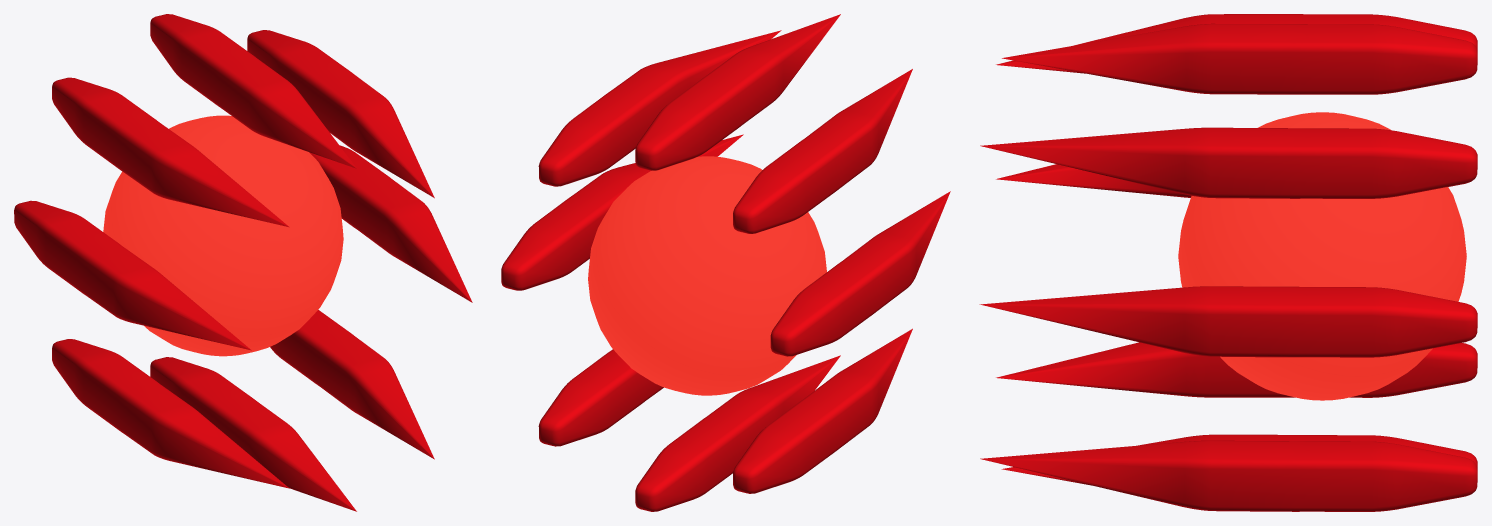
The model's file is fireballv1.glb.
3 renders of one model, left to right at view 1: azimuth 30°, elevation 25°; view 2: azimuth 150°, elevation 25°; view 3: azimuth 270°, elevation 25°, orthographic. The views are drawn at different scales.
Visible parts, largest first — view 1: Fireball; view 2: Fireball; view 3: Fireball.
Part boxes in pixels (x1=…): Fireball: x1=14, y1=14, x2=472, y2=511; Fireball: x1=501, y1=14, x2=950, y2=511; Fireball: x1=979, y1=14, x2=1477, y2=511.
Bounding box in the file's own units: 2.99 × 3.54 × 3.45.
